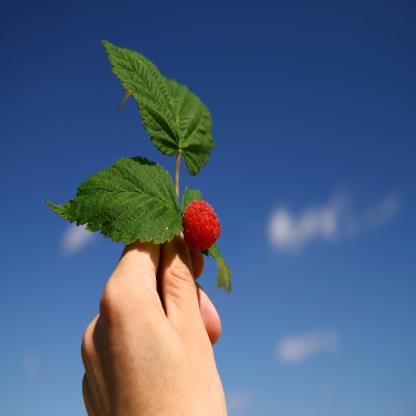raspberry leaf: (100, 40, 218, 176), (42, 154, 185, 244)
